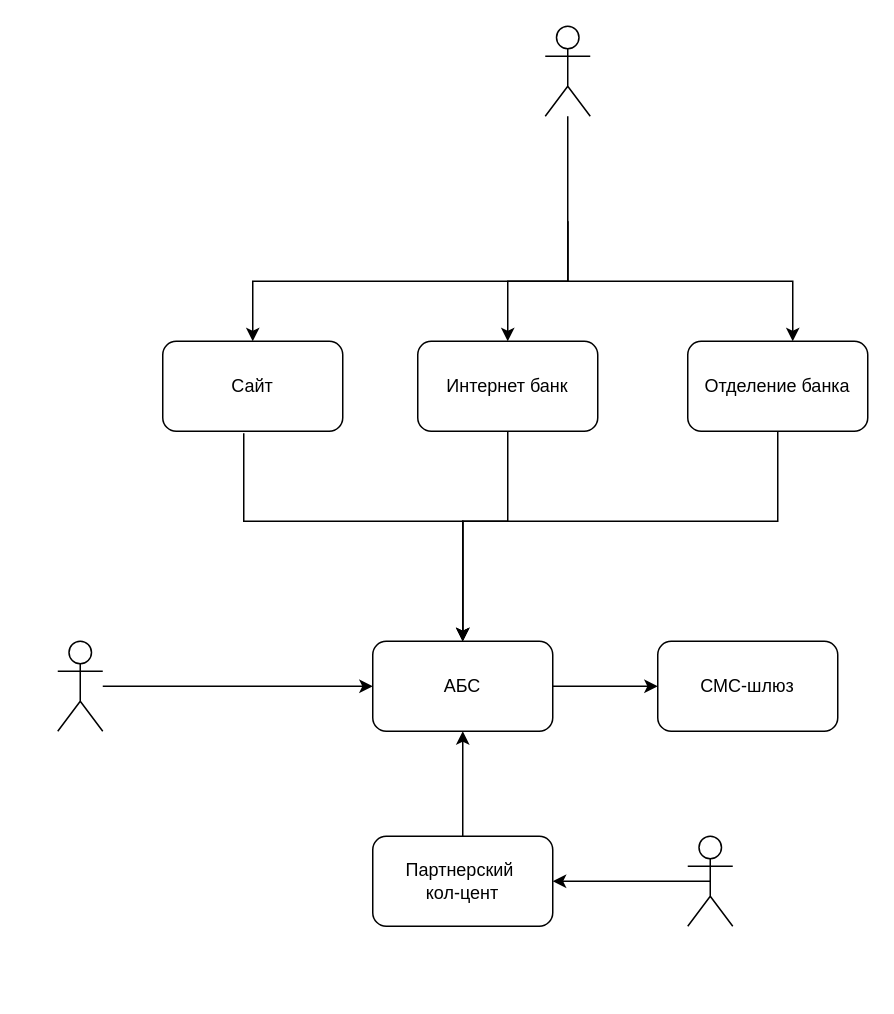
Some shapes in this 894 by 1014 pixel diagram are drawn without their labels. Each missing label, with the centre of its shape:
"Клиент" belongs at (x=567, y=70).
"Сотрудник" belongs at (x=79, y=685).
"Сотрудник кол-центра" belongs at (x=709, y=880).
